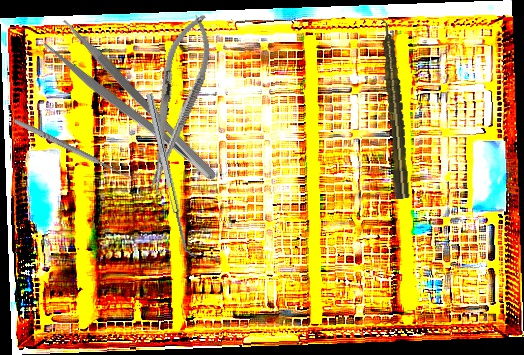Dressing Forceps: (40, 16, 222, 199)
Handpiece: (378, 17, 411, 200)
Hook Surgical: (12, 112, 141, 185)
Needle Holder: (132, 7, 221, 196)
Spatula Surgical: (146, 91, 197, 261)
